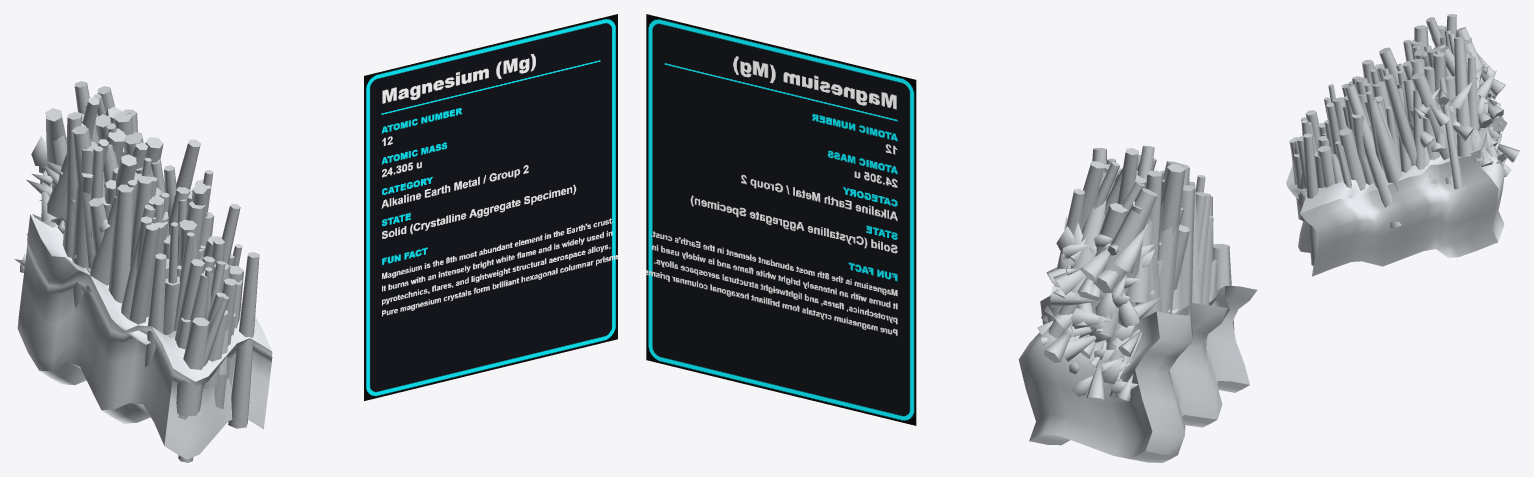
Rendered from magnesium.glb.
3 views of the same model, side by side, from view 1: azimuth 30°, elevation 25°; view 2: azimuth 150°, elevation 25°; view 3: azimuth 270°, elevation 25° (orthographic). The views are drawn at different scales.
Visible parts, largest first — view 1: Mesh_362, Mesh_0, Mesh_7, Mesh_71, Mesh_8, Mesh_98, Mesh_56, Mesh_23, Mesh_109, Mesh_85, Mesh_2, Mesh_117 (+10 smaller); view 2: Mesh_362, Mesh_0, Mesh_138, Mesh_98, Mesh_71, Mesh_109, Mesh_133, Mesh_117, Mesh_136, Mesh_132, Mesh_129, Mesh_126 (+6 smaller); view 3: Mesh_0, Mesh_61, Mesh_136, Mesh_68, Mesh_86, Mesh_7, Mesh_113, Mesh_119, Mesh_30, Mesh_130, Mesh_77, Mesh_15 (+20 smaller).
Part boxes in pixels (<box>): Mesh_362: <box>364,14,617,400</box>; Mesh_0: <box>17,214,272,459</box>; Mesh_7: <box>228,252,259,428</box>; Mesh_71: <box>108,184,134,303</box>; Mesh_8: <box>176,317,209,416</box>; Mesh_98: <box>71,141,97,308</box>; Mesh_56: <box>129,223,158,324</box>; Mesh_23: <box>145,253,166,366</box>; Mesh_109: <box>71,126,94,268</box>; Mesh_85: <box>86,195,116,291</box>; Mesh_2: <box>214,278,236,409</box>; Mesh_117: <box>66,112,81,221</box>; Mesh_362: <box>646,14,916,425</box>; Mesh_0: <box>1018,286,1257,462</box>; Mesh_138: <box>1105,188,1157,288</box>; Mesh_98: <box>1158,179,1179,314</box>; Mesh_71: <box>1180,185,1194,308</box>; Mesh_109: <box>1161,164,1185,235</box>; Mesh_133: <box>1070,172,1115,299</box>; Mesh_117: <box>1142,170,1162,318</box>; Mesh_136: <box>1080,161,1104,231</box>; Mesh_132: <box>1126,220,1152,302</box>; Mesh_129: <box>1091,203,1127,313</box>; Mesh_126: <box>1117,148,1138,204</box>; Mesh_0: <box>1286,128,1504,276</box>; Mesh_61: <box>1344,84,1401,228</box>; Mesh_136: <box>1454,36,1472,156</box>; Mesh_68: <box>1364,97,1402,192</box>; Mesh_86: <box>1384,74,1416,165</box>; Mesh_7: <box>1303,133,1318,265</box>; Mesh_113: <box>1411,72,1449,160</box>; Mesh_119: <box>1435,50,1463,189</box>; Mesh_30: <box>1339,128,1366,190</box>; Mesh_130: <box>1467,56,1478,129</box>; Mesh_77: <box>1413,89,1424,169</box>; Mesh_15: <box>1317,145,1335,187</box>.
Bounding box in the file's own units: 2.43 × 1.49 × 1.2.
3 materials, 1 textured.
